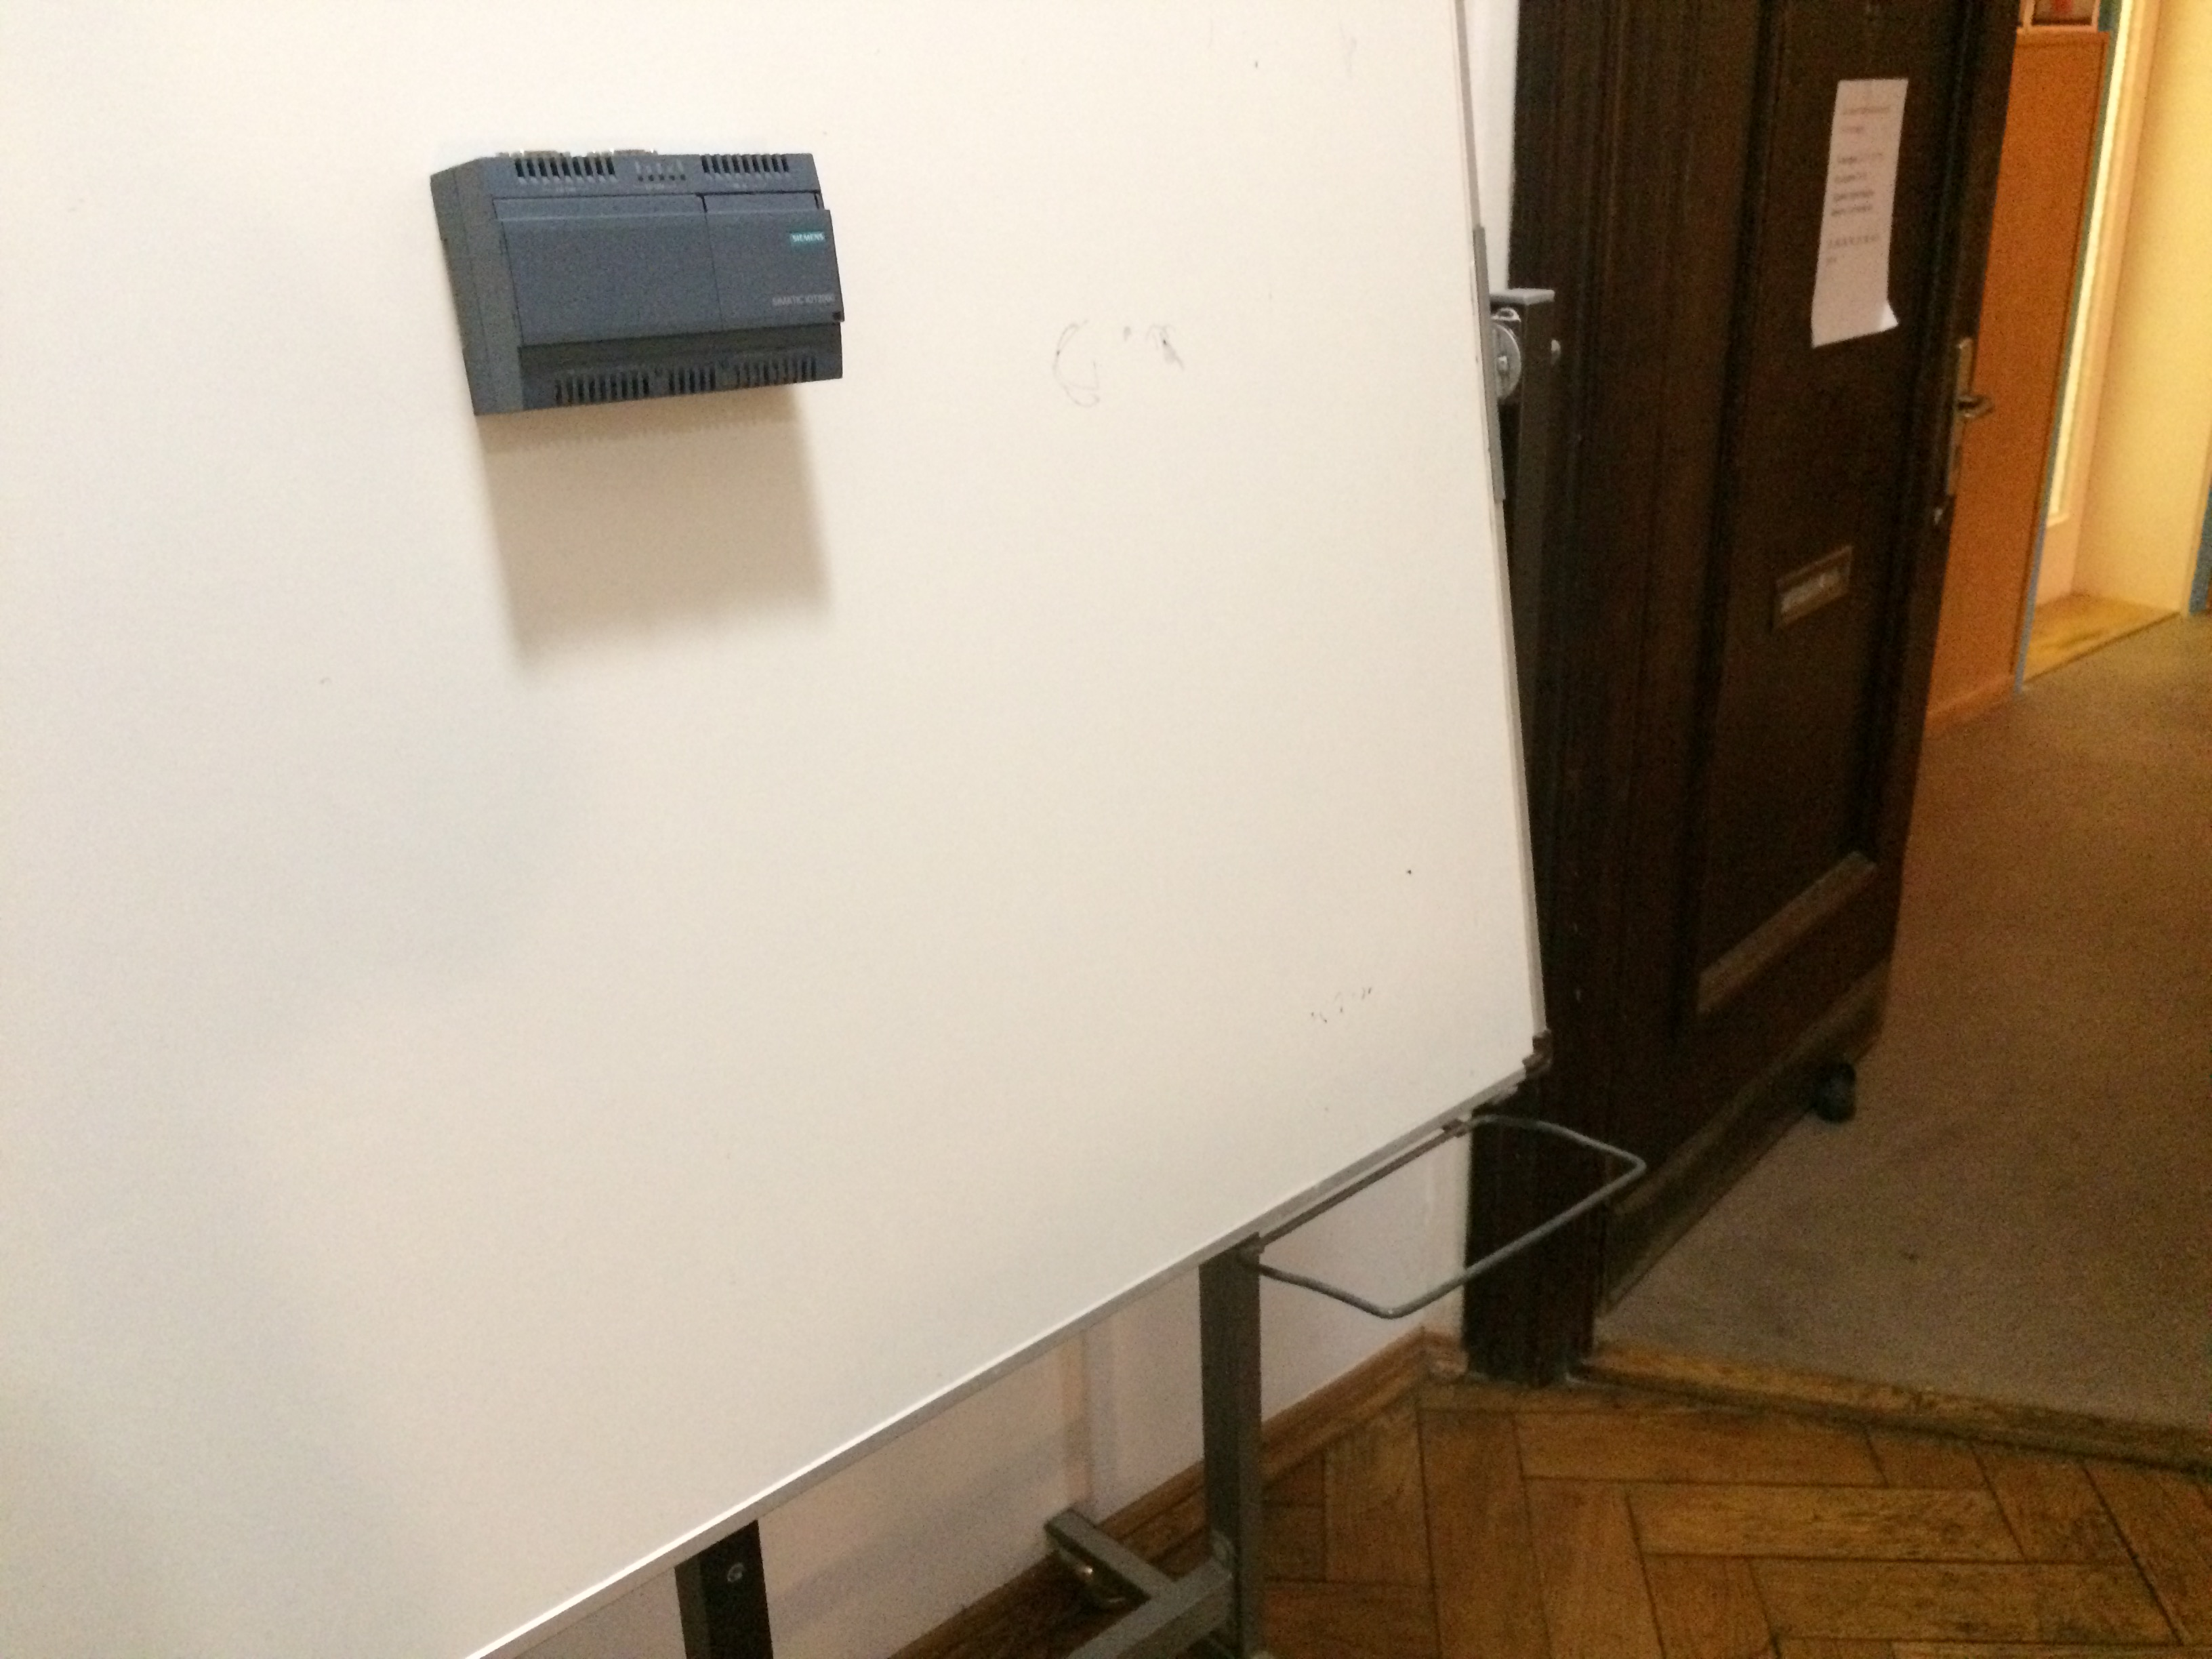iot2000: (425, 145, 852, 423)
